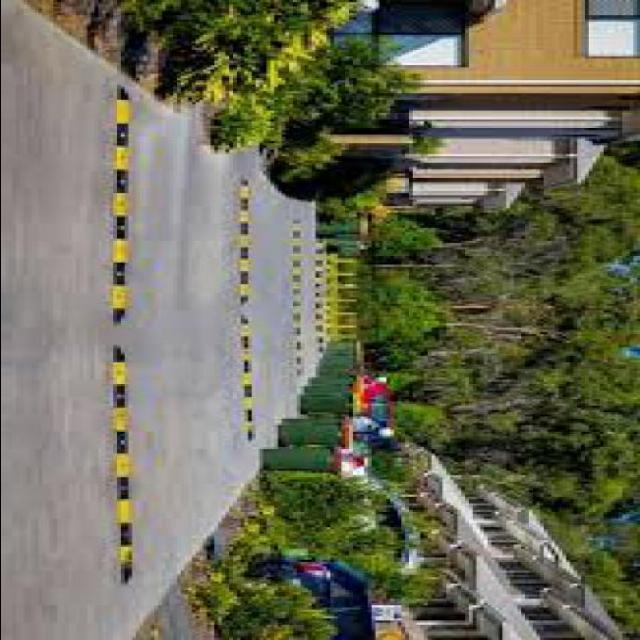Speed_Breaker: (106, 86, 142, 602), (235, 167, 258, 450), (111, 83, 134, 320), (116, 340, 132, 579), (286, 211, 305, 389), (243, 174, 255, 436), (290, 203, 300, 367)
